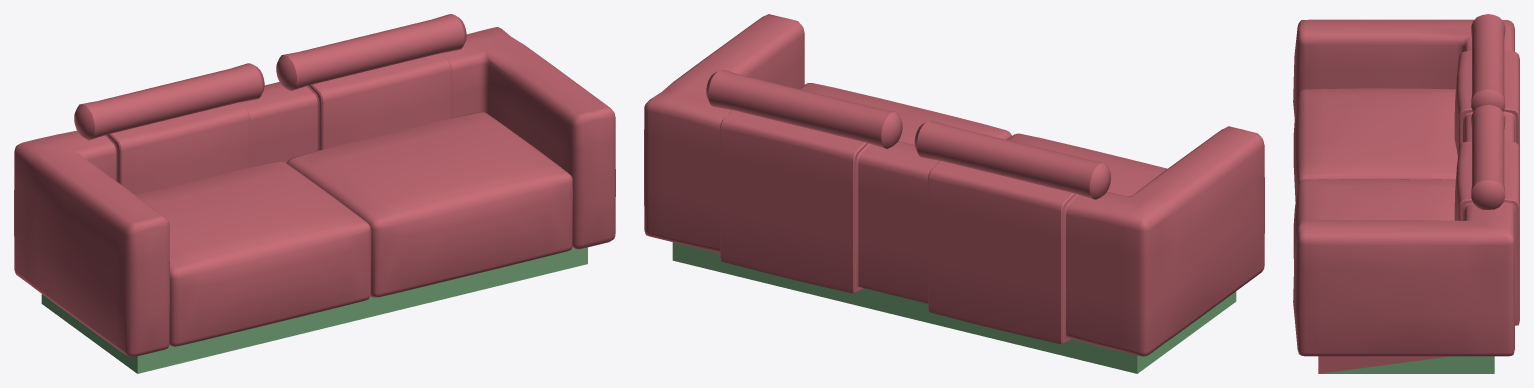
The model's file is MZCSF02.FBX.
The picture shows the model from 3 angles, left to right: view 1: azimuth 30°, elevation 25°; view 2: azimuth 150°, elevation 25°; view 3: azimuth 270°, elevation 25°; orthographic projection. The views are drawn at different scales.
Parts seen in each view (by area): view 1: MZCSF02; view 2: MZCSF02; view 3: MZCSF02.
Part boxes in pixels (x1,y1,x2,y2): MZCSF02: [14, 14, 615, 373]; MZCSF02: [644, 14, 1264, 373]; MZCSF02: [1293, 14, 1519, 373].
Bounding box in the file's own units: 210 × 90 × 77.
